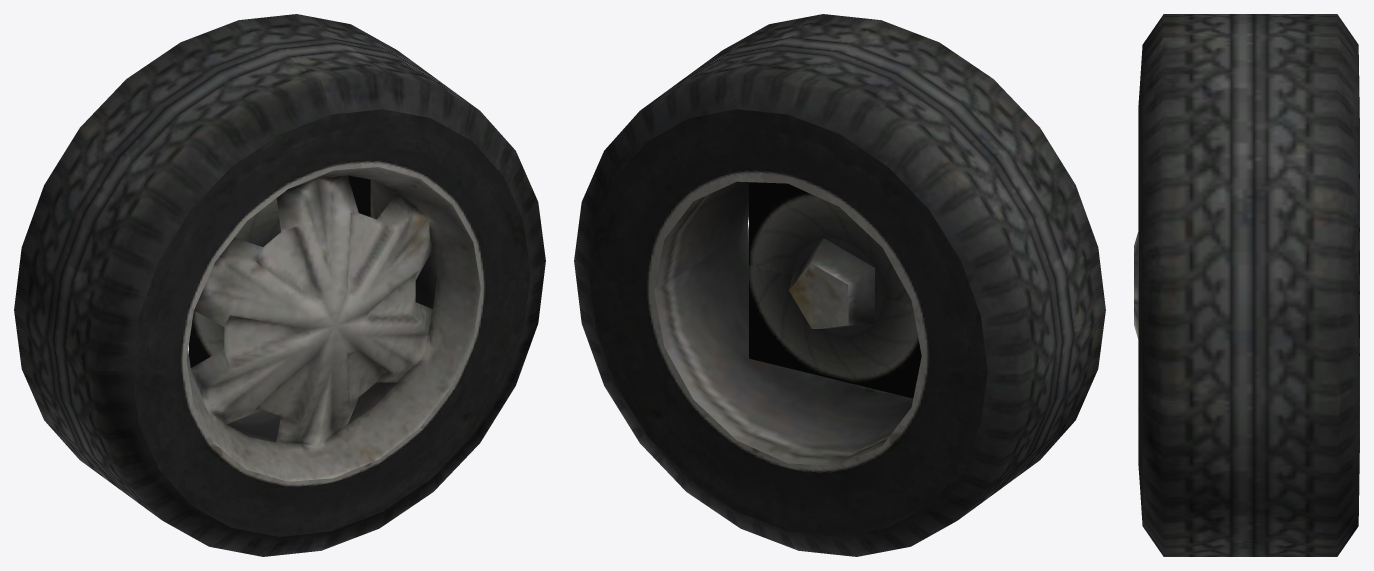
The model's file is v_a_classicmuscle_Wheels_13_SkeletalMesh3_SkeletalMesh_0.psk.glb.
The picture shows the model from 3 angles, left to right: view 1: azimuth 30°, elevation 25°; view 2: azimuth 150°, elevation 25°; view 3: azimuth 270°, elevation 25°; orthographic projection. The views are drawn at different scales.
Bounding box in the file's own units: 67.84 × 67.84 × 28.11.
1 material, 1 textured.
